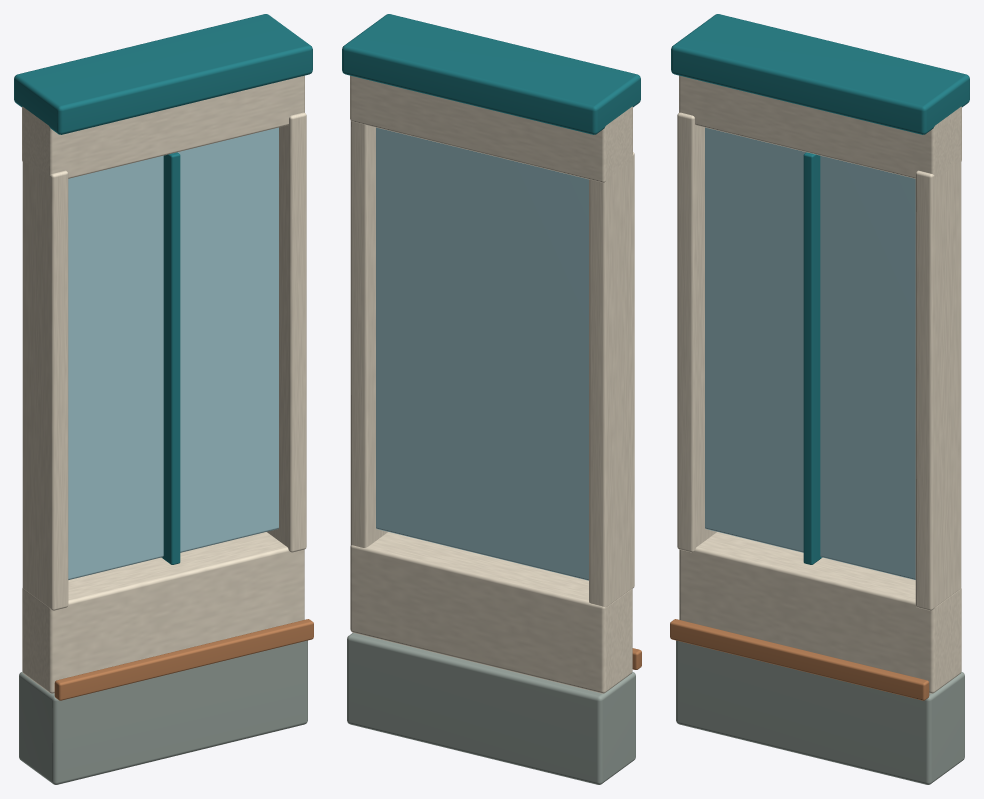
File: window.glb
3 views of the same model, side by side, from view 1: azimuth 30°, elevation 25°; view 2: azimuth 150°, elevation 25°; view 3: azimuth 330°, elevation 25° (orthographic).
Parts seen in each view (by area): view 1: Blue window, Limestone sill wall, Stone base, Window jamb, Teal cornice, Window header, Window jamb.001, Window mullion, Oak base trim; view 2: Blue window, Limestone sill wall, Stone base, Window jamb, Teal cornice, Window header, Window jamb.001; view 3: Blue window, Limestone sill wall, Stone base, Window jamb.001, Teal cornice, Window header, Window jamb, Window mullion, Oak base trim.
Boxes of the visible parts, bbox=[...] form: Blue window: bbox=[68, 127, 278, 579]; Limestone sill wall: bbox=[22, 532, 304, 693]; Stone base: bbox=[19, 640, 307, 784]; Window jamb: bbox=[22, 157, 68, 610]; Teal cornice: bbox=[14, 14, 312, 134]; Window header: bbox=[22, 75, 304, 179]; Window jamb.001: bbox=[267, 112, 306, 552]; Window mullion: bbox=[161, 152, 180, 564]; Oak base trim: bbox=[54, 619, 313, 700]; Blue window: bbox=[376, 127, 588, 580]; Limestone sill wall: bbox=[350, 532, 632, 693]; Stone base: bbox=[347, 633, 635, 784]; Window jamb: bbox=[589, 152, 634, 607]; Teal cornice: bbox=[342, 14, 640, 134]; Window header: bbox=[350, 75, 632, 182]; Window jamb.001: bbox=[350, 121, 387, 547]; Blue window: bbox=[705, 127, 915, 579]; Limestone sill wall: bbox=[679, 532, 961, 693]; Stone base: bbox=[676, 640, 964, 784]; Window jamb.001: bbox=[915, 157, 961, 610]; Teal cornice: bbox=[671, 14, 969, 134]; Window header: bbox=[679, 75, 961, 179]; Window jamb: bbox=[677, 112, 716, 552]; Window mullion: bbox=[803, 152, 822, 564]; Oak base trim: bbox=[670, 619, 929, 700].
Size of the model in its own units: 1.2 by 3.06 by 0.3825.
Materials: 5 (1 with a texture image).
